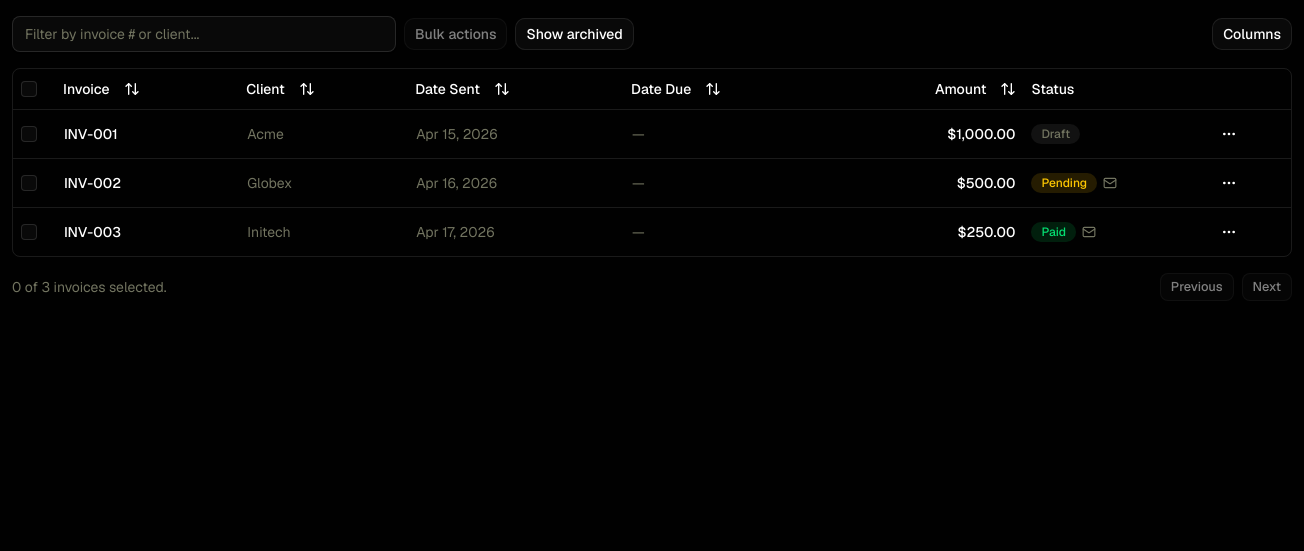
Scenario: InvoiceDataTable — per-row actions › shows 'Unarchive' (not 'Archive') on archived rows
The width and height of the screenshot is (1304, 551).
Click the button "Show archived". click: click(575, 34)
box: [515, 18, 634, 50]
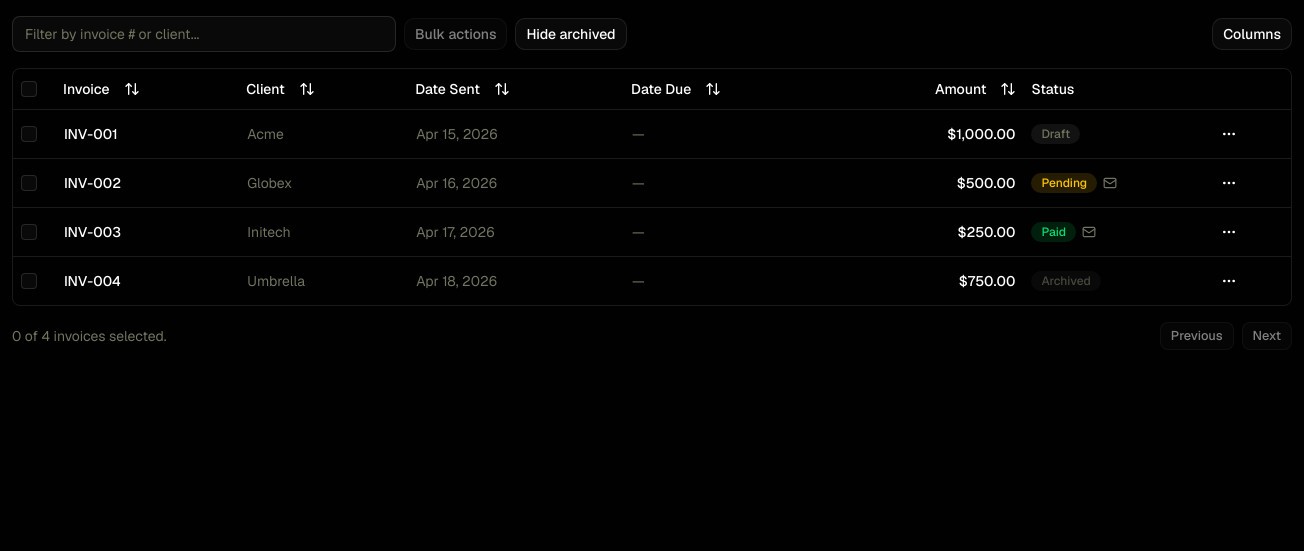
archived row (inv-4) is now the 4th row (index 3)
Click the button named "open menu" in the row of "INV-004". click: click(1229, 280)
box: [1213, 264, 1245, 296]
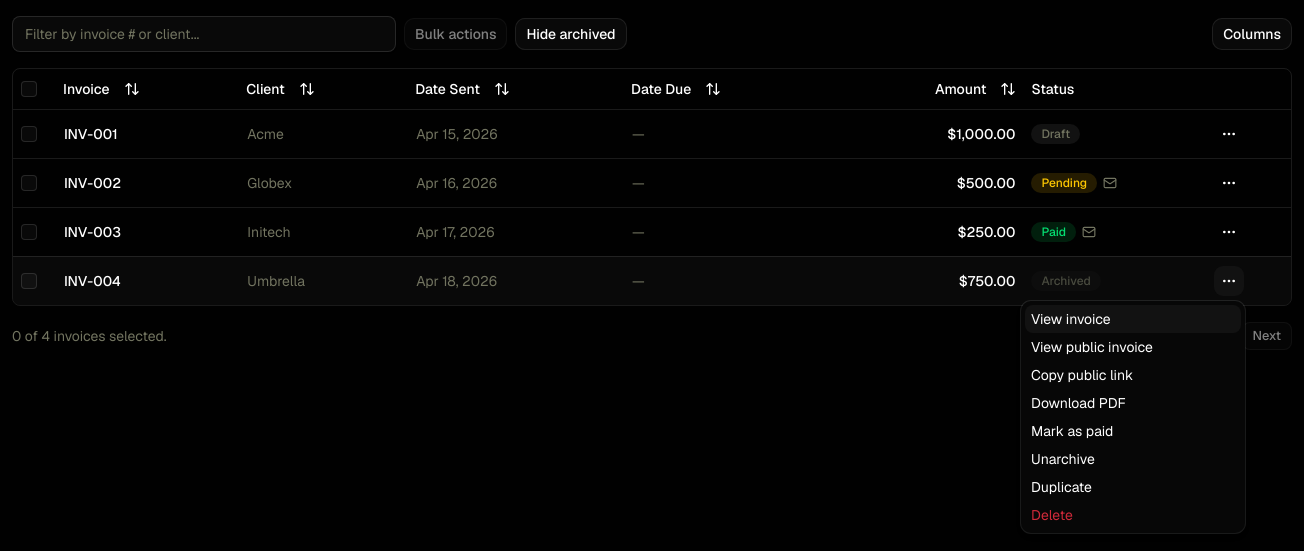
Now the menu item "Unarchive" is shown, box [1031, 450, 1095, 468]
